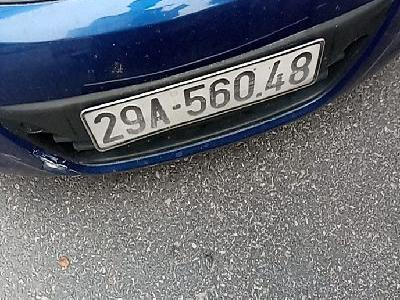lisence: (78, 35, 326, 155)
